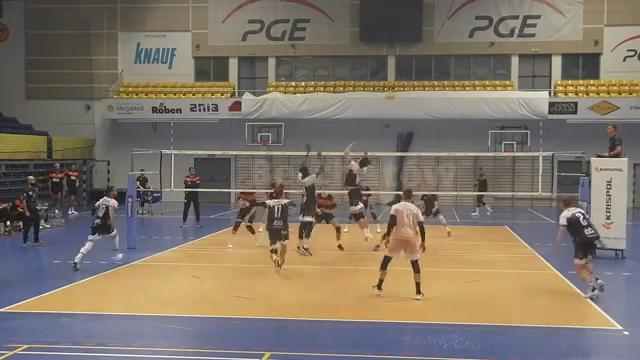Player: (373, 188, 425, 299), (554, 197, 603, 299), (73, 187, 121, 270), (252, 189, 293, 270), (297, 164, 323, 255), (418, 184, 450, 236), (316, 194, 343, 250), (231, 192, 257, 244), (360, 184, 380, 232), (361, 184, 380, 232), (266, 179, 286, 199)
Set: (340, 139, 382, 247)
ball: (383, 91, 398, 101)
